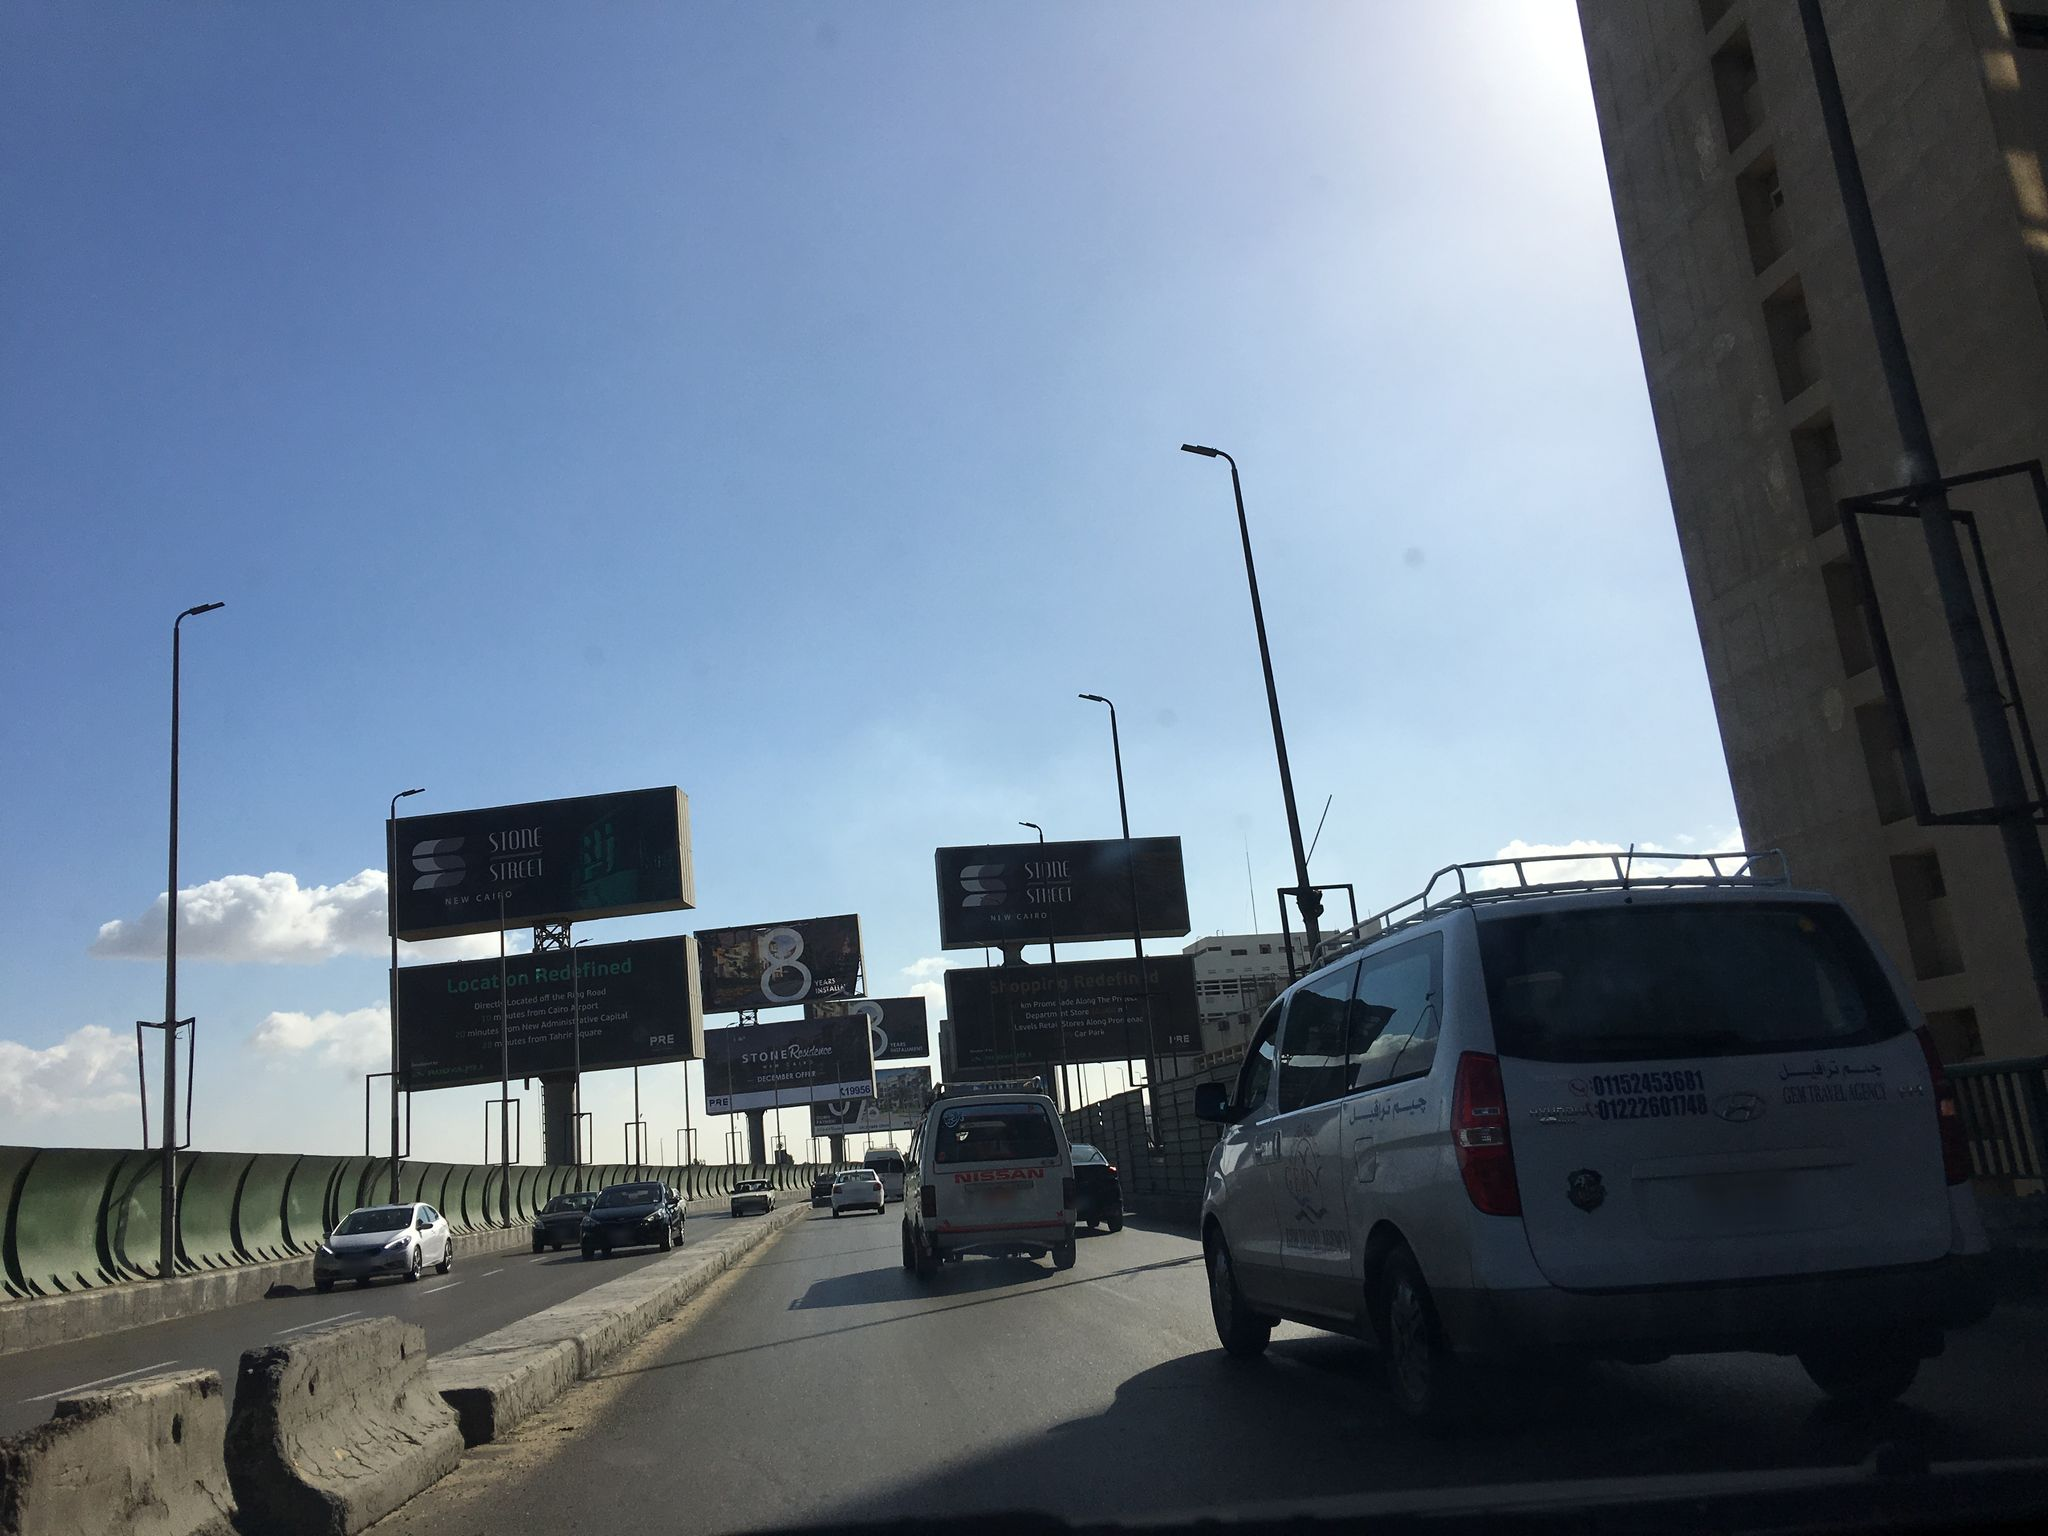car: (1192, 845, 2000, 1438), (901, 1076, 1077, 1283), (311, 1202, 452, 1288), (577, 1181, 685, 1262), (1063, 1142, 1124, 1234), (531, 1191, 598, 1254), (829, 1168, 885, 1217), (860, 1146, 906, 1202), (729, 1178, 776, 1213), (810, 1173, 835, 1199), (669, 1187, 687, 1220)
